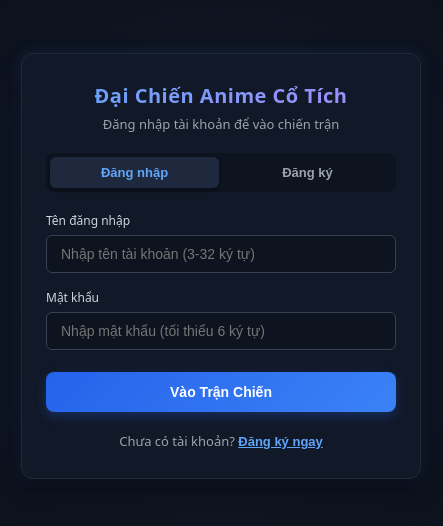
AuthScreen (authentication error mapping) › maps INVALID_INPUT to its message
The width and height of the screenshot is (443, 526).
Click the button with test id "tab-register" at (308, 172), box [223, 157, 392, 188]
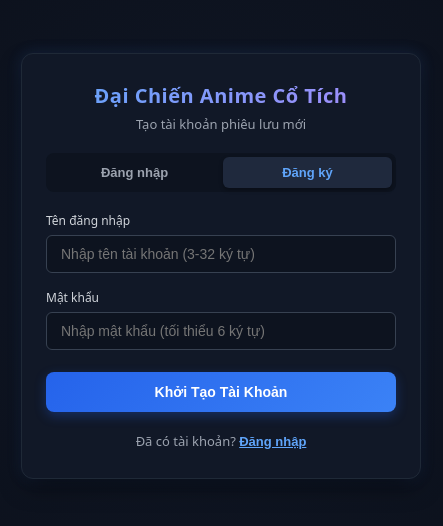
Type "playerone" into the field with test id "input-username" at (221, 254), box [46, 235, 396, 273]
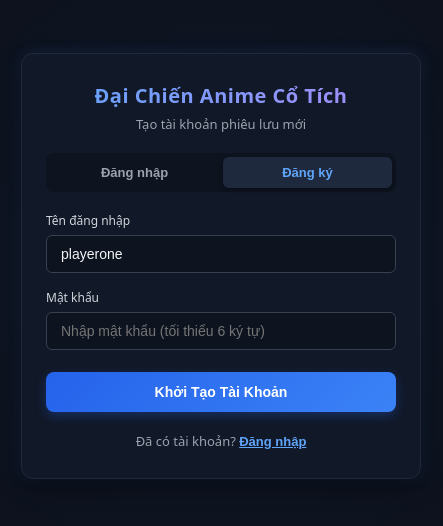
Type "secret123" into the password field with test id "input-password" at (221, 331), box [46, 312, 396, 350]
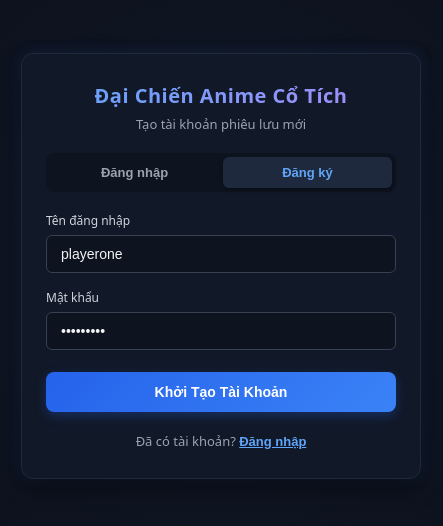
Click the button with test id "button-submit" at (221, 392), box [46, 372, 396, 412]
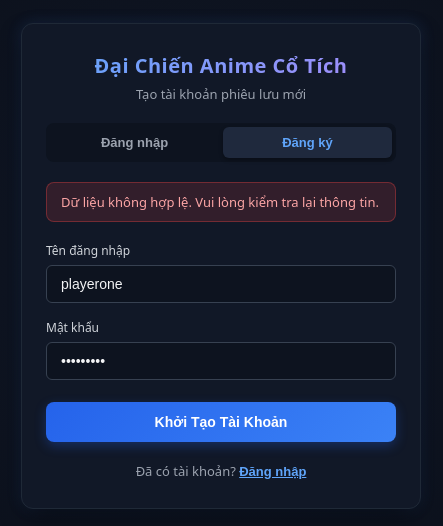
Expected: the message with test id "auth-error-banner" reads "Dữ liệu không hợp lệ. Vui lòng kiểm tra lại thông tin.", [61, 193, 379, 211]
